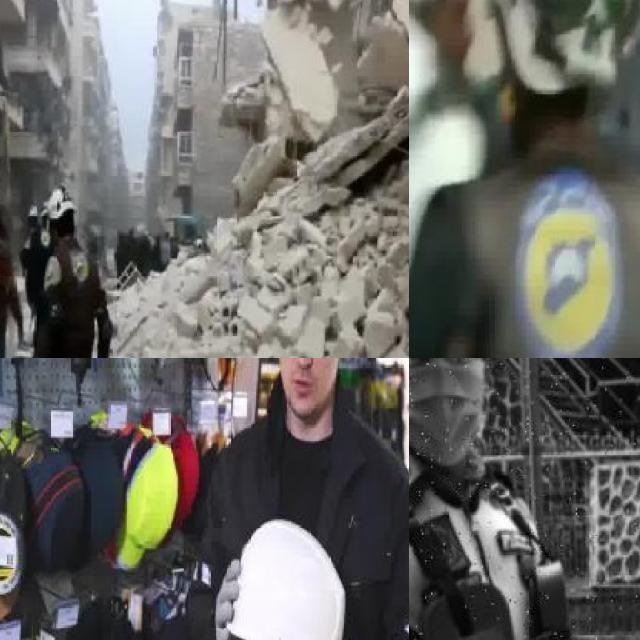apron: (213, 555, 244, 640)
